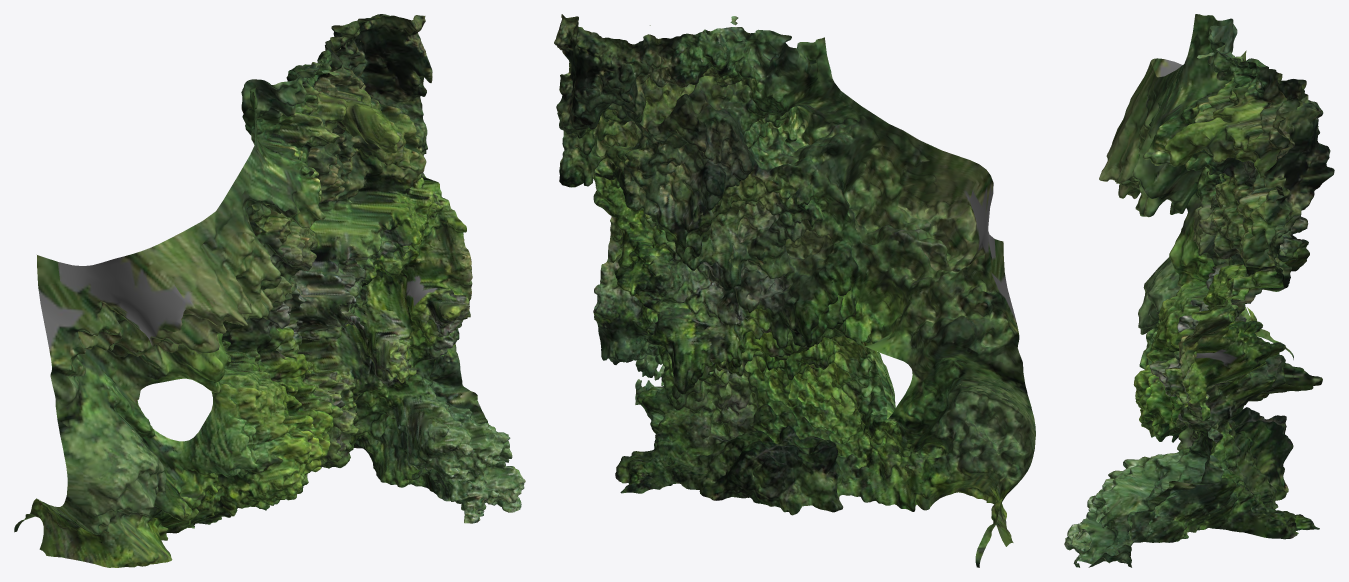
Rendered from Tile_+004_+029.fbx.
3 views of the same model, side by side, from view 1: azimuth 30°, elevation 25°; view 2: azimuth 150°, elevation 25°; view 3: azimuth 270°, elevation 25° (orthographic). The views are drawn at different scales.
Visible parts, largest first — view 1: DefaultName; view 2: DefaultName; view 3: DefaultName.
Part boxes in pixels (x1,y1,x2,y2): DefaultName: [14, 14, 525, 567]; DefaultName: [554, 14, 1035, 567]; DefaultName: [1064, 14, 1334, 567].
Bounding box in the file's own units: 22.54 × 22.54 × 12.39.
